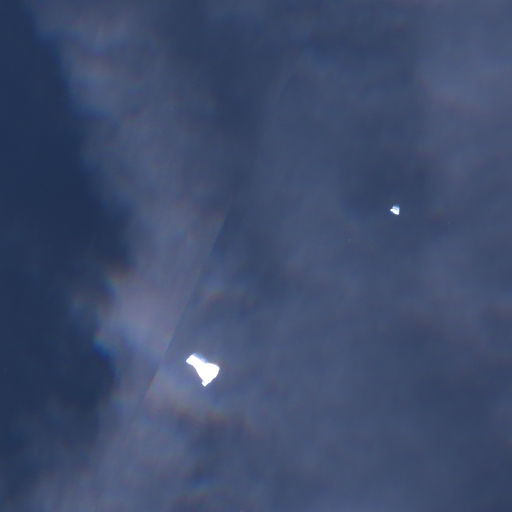Iceberg: (185, 353, 219, 387), (390, 204, 399, 215)
